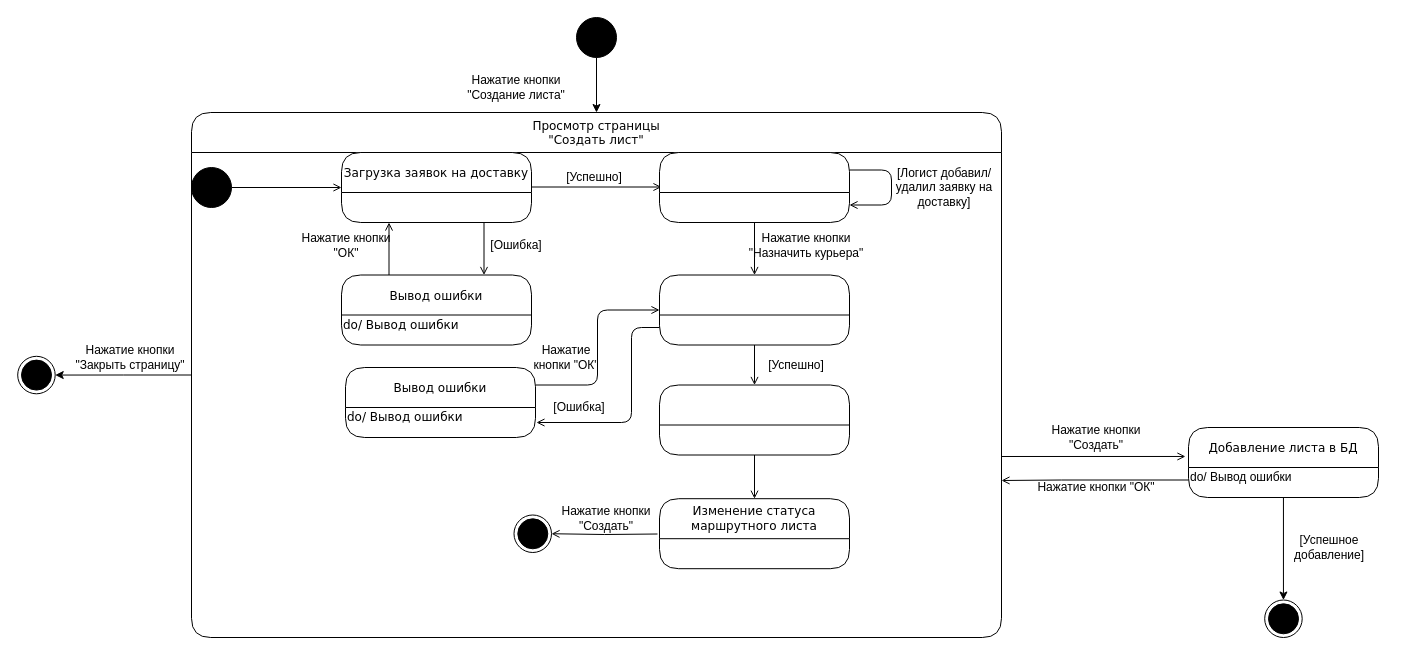
The diagram is 1412 pixels wide and 655 high, and some of its shapes have lost their labels. Each missing label, with the centre of its shape:
"Выбор курьера" goes at [754,419].
"Добавление/удаление заявки на доставку" goes at [754,187].
"Загрузка доступных курьеров" goes at [754,309].
